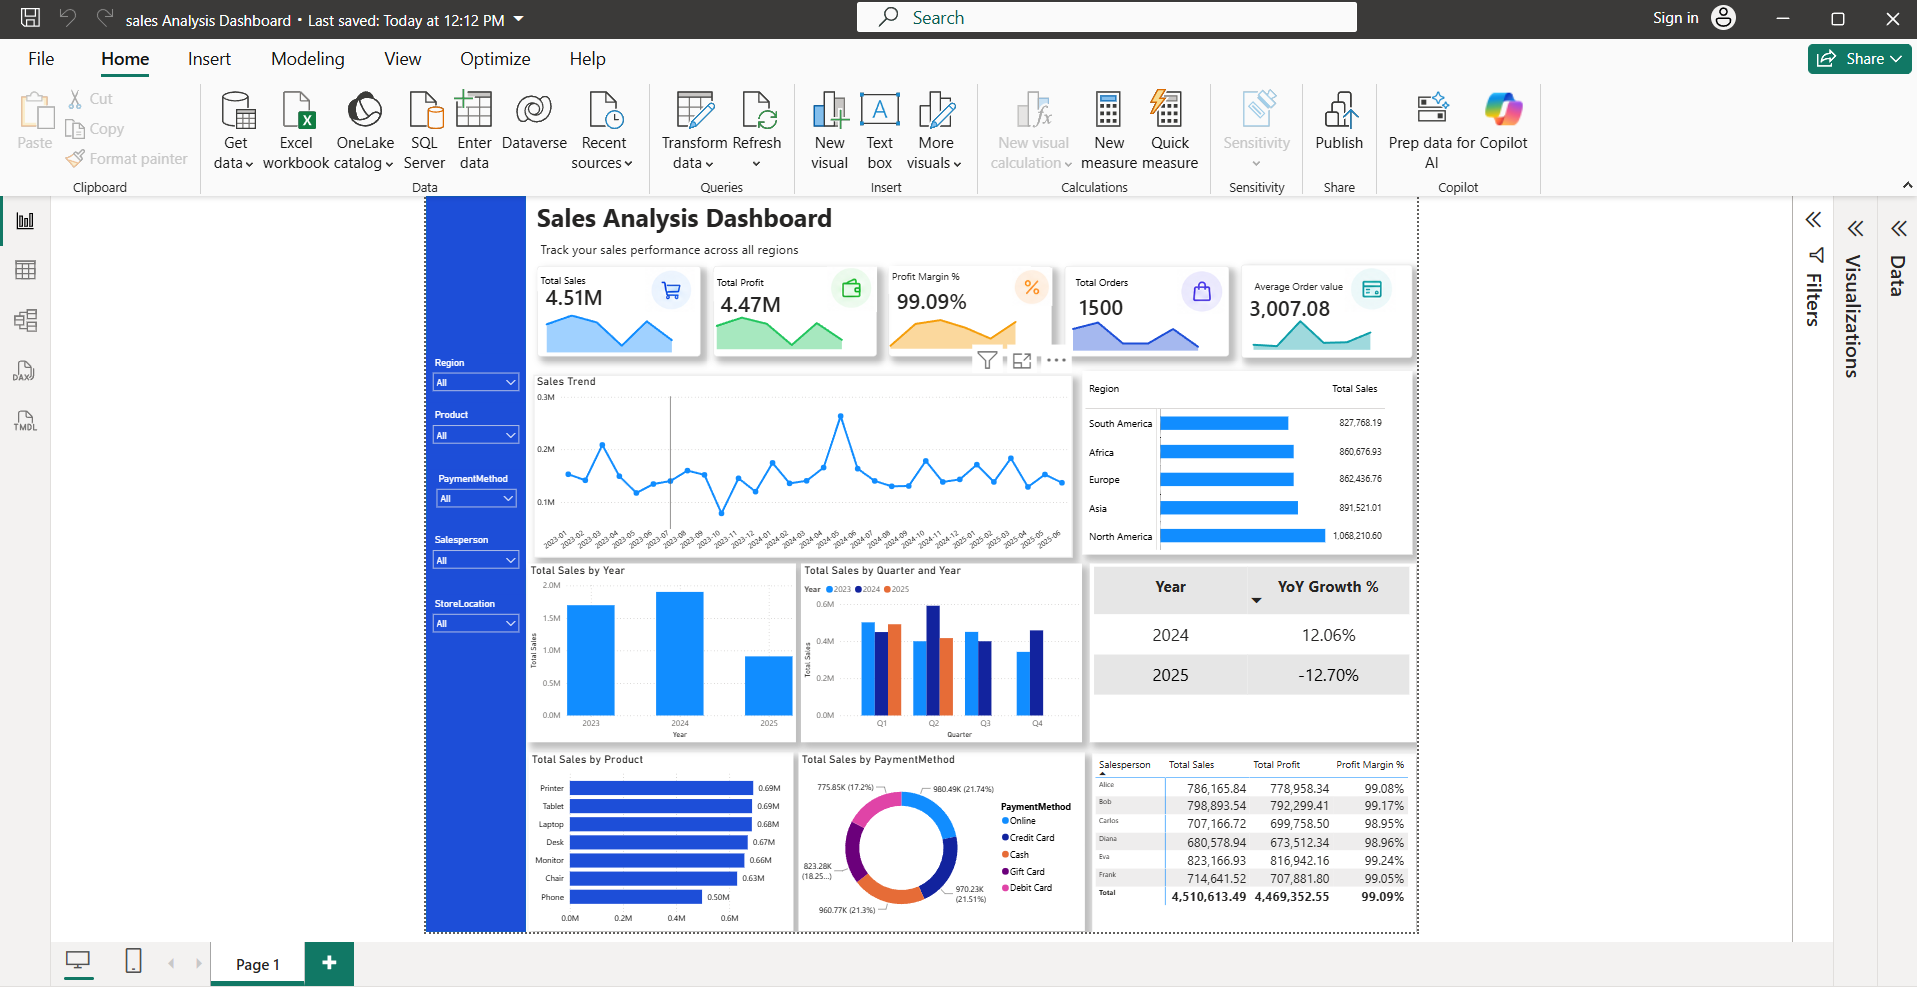

What the dashboard file says about the page in this screenshot:
{"tool":"powerbi","page":{"name":"Page 1","canvas":[1480,1100],"ordinal":0},"visuals":[{"type":"textbox","box":[9.6,0,279.9,31.6],"z":0},{"type":"textbox","box":[160.2,1.6,787,60.3],"z":1000},{"type":"textbox","box":[166.6,61.9,723.5,41.3],"z":2000},{"type":"shape","box":[0,0,149.5,1100.4],"z":3000},{"type":"shape","box":[1208.7,100.9,265.3,140.1],"z":4000},{"type":"shape","box":[954.4,104.7,245.9,134.9],"z":5000},{"type":"shape","box":[691.8,104.7,244.3,134.9],"z":6000},{"type":"shape","box":[166.6,104.7,244.3,134.9],"z":7000},{"type":"shape","box":[429.2,104.7,244.3,134.9],"z":8000},{"type":"textbox","box":[166.6,109.5,169.8,31.7],"z":9000},{"type":"textbox","box":[430,114.2,169.8,42.8],"z":10000},{"type":"textbox","box":[966.3,114.2,169.8,31.7],"z":11000},{"type":"textbox","box":[691.8,104.7,212.6,41.3],"z":12000},{"type":"textbox","box":[1232.8,119,169.8,31.7],"z":13000},{"type":"cardVisual","fields":{"Data":["Measure.Total Sales"]},"box":[149.1,114.2,187.2,69.8],"z":14000},{"type":"cardVisual","fields":{"Data":["Measure.Average Order Value"]},"box":[1208.7,132.6,194.3,69.1],"z":15000},{"type":"cardVisual","fields":{"Data":["Measure.Total Orders"]},"box":[947.2,130.1,188.8,65.1],"z":16000},{"type":"cardVisual","fields":{"Data":["Measure.Profit Margin %"]},"box":[674.3,119,192,69.8],"z":17000},{"type":"cardVisual","fields":{"Data":["Measure.Profit"]},"box":[410.9,125.3,188.8,69.8],"z":18000},{"type":"image","box":[1018.2,282.1,87.8,69.1],"z":19000},{"type":"image","box":[599.7,104.7,74.6,69.8],"z":20000},{"type":"image","box":[875.8,100,60.3,69.8],"z":21000},{"type":"image","box":[1115.3,108.4,85.9,69.1],"z":22000},{"type":"image","box":[1358.2,104.7,104.7,69.8],"z":23000},{"type":"areaChart","fields":{"Y":["Measure.Total Sales"],"Category":["Calendar.Month"]},"box":[160.2,165,226.9,74.6],"z":24000},{"type":"areaChart","fields":{"Category":["Calendar.Month"],"Y":["Measure.Profit"]},"box":[414.1,165,226.9,69.8],"z":25000},{"type":"areaChart","fields":{"Category":["Calendar.Month"],"Y":["Measure.Profit Margin %"]},"box":[674.3,169.8,226.9,63.5],"z":26000},{"type":"areaChart","fields":{"Category":["Calendar.Month"],"Y":["Measure.Total Orders"]},"box":[947.2,168.2,226.9,68.2],"z":27000},{"type":"areaChart","fields":{"Category":["Calendar.Month"],"Y":["Measure.Average Order Value"]},"box":[1218.1,170,231.7,65.4],"z":28000},{"type":"lineChart","title":"Sales Trend","fields":{"Y":["Measure.Total Sales"],"Category":["Calendar.Year-Month"]},"box":[160.7,267.2,805.2,272.8],"z":29000},{"type":"pivotTable","fields":{"Rows":["Sales.Region"],"Values":["Measure.Sales Bar","Measure.Total Sales"]},"box":[980.8,261.6,493.2,274.6],"z":30000},{"type":"clusteredBarChart","fields":{"Category":["Sales.Product"],"Y":["Measure.Total Sales"]},"box":[153.2,831.4,396.1,267.2],"z":31000},{"type":"donutChart","fields":{"Y":["Measure.Total Sales"],"Category":["Sales.PaymentMethod"]},"box":[556.7,831.4,427.8,267.2],"z":32000},{"type":"pivotTable","fields":{"Rows":["Sales.Salesperson"],"Values":["Measure.Total Sales","Sum(Sales.Profit)","Measure.Profit Margin %"]},"box":[995.8,833.2,483.9,267.2],"z":33000},{"type":"slicer","fields":{"Values":["Sales.Region"]},"box":[0,234.8,149.1,73],"z":34000},{"type":"slicer","fields":{"Values":["Sales.Product"]},"box":[0,314.2,149.1,73],"z":35000},{"type":"slicer","fields":{"Values":["Sales.PaymentMethod"]},"box":[4.8,409.3,139.6,73],"z":36000},{"type":"slicer","fields":{"Values":["Sales.Salesperson"]},"box":[0,499.8,149.1,73],"z":37000},{"type":"slicer","fields":{"Values":["Sales.StoreLocation"]},"box":[0,596.6,149.1,73],"z":38000},{"type":"clusteredColumnChart","fields":{"Y":["Measure.Total Sales"],"Category":["Calendar.Year"]},"box":[151.3,549.3,401.7,267.2],"z":39000},{"type":"clusteredColumnChart","fields":{"Category":["Calendar.Quarter"],"Series":["Calendar.Year"],"Y":["Measure.Total Sales"]},"box":[560.5,549.3,420.3,267.2],"z":40000},{"type":"tableEx","fields":{"Values":["Calendar.Year","Calendar.YoY Growth %"]},"box":[992,549.3,487.6,267.2],"z":41000},{"type":"image","box":[325.1,106.5,85.9,69.1],"z":42000}]}

Visuals, with their boxes on the page's 1480x1100 design canvas (x1, y1, x2, y2). These are canvas units, not pixel positions in the 1917x987 screenshot, which may show the page scaled, cropped or inside an application window:
textbox: [10, 0, 290, 32]
textbox: [160, 2, 947, 62]
textbox: [167, 62, 890, 103]
shape: [0, 0, 150, 1100]
shape: [1209, 101, 1474, 241]
shape: [954, 105, 1200, 240]
shape: [692, 105, 936, 240]
shape: [167, 105, 411, 240]
shape: [429, 105, 674, 240]
textbox: [167, 110, 336, 141]
textbox: [430, 114, 600, 157]
textbox: [966, 114, 1136, 146]
textbox: [692, 105, 904, 146]
textbox: [1233, 119, 1403, 151]
cardVisual - Measure.Total Sales: [149, 114, 336, 184]
cardVisual - Measure.Average Order Value: [1209, 133, 1403, 202]
cardVisual - Measure.Total Orders: [947, 130, 1136, 195]
cardVisual - Measure.Profit Margin %: [674, 119, 866, 189]
cardVisual - Measure.Profit: [411, 125, 600, 195]
image: [1018, 282, 1106, 351]
image: [600, 105, 674, 174]
image: [876, 100, 936, 170]
image: [1115, 108, 1201, 178]
image: [1358, 105, 1463, 174]
areaChart - Measure.Total Sales x Calendar.Month: [160, 165, 387, 240]
areaChart - Calendar.Month x Measure.Profit: [414, 165, 641, 235]
areaChart - Calendar.Month x Measure.Profit Margin %: [674, 170, 901, 233]
areaChart - Calendar.Month x Measure.Total Orders: [947, 168, 1174, 236]
areaChart - Calendar.Month x Measure.Average Order Value: [1218, 170, 1450, 235]
"Sales Trend" lineChart: [161, 267, 966, 540]
pivotTable - Sales.Region x Measure.Sales Bar: [981, 262, 1474, 536]
clusteredBarChart - Sales.Product x Measure.Total Sales: [153, 831, 549, 1099]
donutChart - Measure.Total Sales x Sales.PaymentMethod: [557, 831, 984, 1099]
pivotTable - Sales.Salesperson x Measure.Total Sales: [996, 833, 1480, 1100]
slicer - Sales.Region: [0, 235, 149, 308]
slicer - Sales.Product: [0, 314, 149, 387]
slicer - Sales.PaymentMethod: [5, 409, 144, 482]
slicer - Sales.Salesperson: [0, 500, 149, 573]
slicer - Sales.StoreLocation: [0, 597, 149, 670]
clusteredColumnChart - Measure.Total Sales x Calendar.Year: [151, 549, 553, 816]
clusteredColumnChart - Calendar.Quarter x Calendar.Year: [560, 549, 981, 816]
tableEx - Calendar.Year x Calendar.YoY Growth %: [992, 549, 1480, 816]
image: [325, 106, 411, 176]
